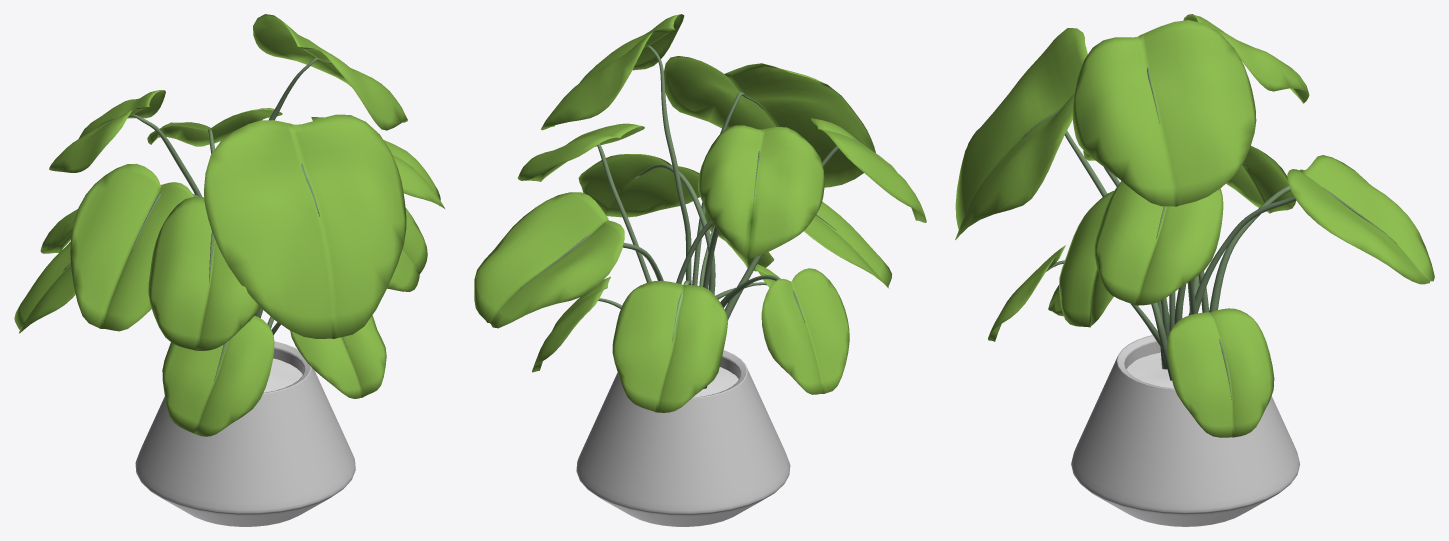
Rendered from Monstera.fbx.
3 renders of one model, left to right at view 1: azimuth 30°, elevation 25°; view 2: azimuth 150°, elevation 25°; view 3: azimuth 270°, elevation 25°, orthographic. The views are drawn at different scales.
Parts seen in each view (by area): view 1: Plant_Monstera_A_spring-summer-autumn.001, Vase_Circular-Widening-Glazed-Ceramics_A_spring-summer-autu; view 2: Plant_Monstera_A_spring-summer-autumn.001, Vase_Circular-Widening-Glazed-Ceramics_A_spring-summer-autu; view 3: Plant_Monstera_A_spring-summer-autumn.001, Vase_Circular-Widening-Glazed-Ceramics_A_spring-summer-autu.
Part boxes in pixels (x1,y1,x2,y2): Plant_Monstera_A_spring-summer-autumn.001: [14, 14, 444, 436]; Vase_Circular-Widening-Glazed-Ceramics_A_spring-summer-autu: [135, 341, 355, 526]; Plant_Monstera_A_spring-summer-autumn.001: [474, 14, 926, 412]; Vase_Circular-Widening-Glazed-Ceramics_A_spring-summer-autu: [576, 350, 790, 526]; Plant_Monstera_A_spring-summer-autumn.001: [955, 14, 1434, 437]; Vase_Circular-Widening-Glazed-Ceramics_A_spring-summer-autu: [1071, 335, 1299, 526].
Size of the model in its own units: 113 by 138 by 122.
